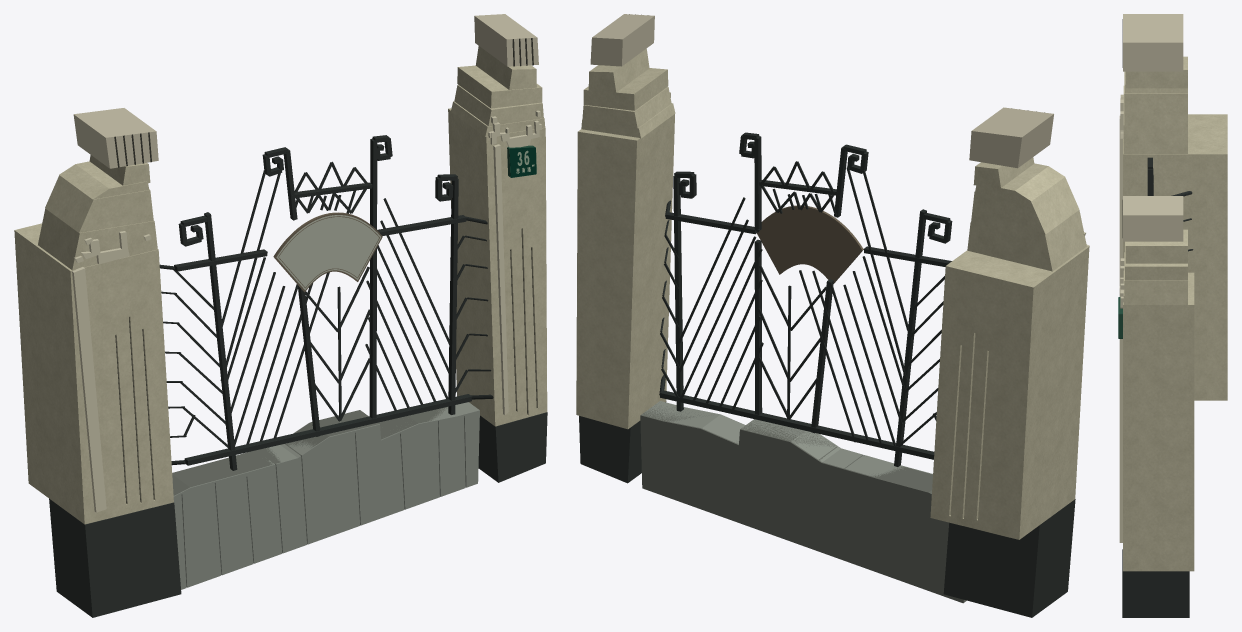
The model's file is huangpu-sinan-road-36-lattice-side-gate-web.glb.
3 renders of one model, left to right at view 1: azimuth 30°, elevation 25°; view 2: azimuth 150°, elevation 25°; view 3: azimuth 270°, elevation 25°, orthographic. The views are drawn at different scales.
Visible parts, largest first — view 1: 思南路36号边门的错台门柱与几何铁栏; view 2: 思南路36号边门的错台门柱与几何铁栏; view 3: 思南路36号边门的错台门柱与几何铁栏.
Part boxes in pixels (<box>): 思南路36号边门的错台门柱与几何铁栏: <box>14,14,547,617</box>; 思南路36号边门的错台门柱与几何铁栏: <box>576,14,1089,617</box>; 思南路36号边门的错台门柱与几何铁栏: <box>1118,14,1227,617</box>.
Bounding box in the file's own units: 3.24 × 3.15 × 0.6895.
14 materials, 1 textured.
